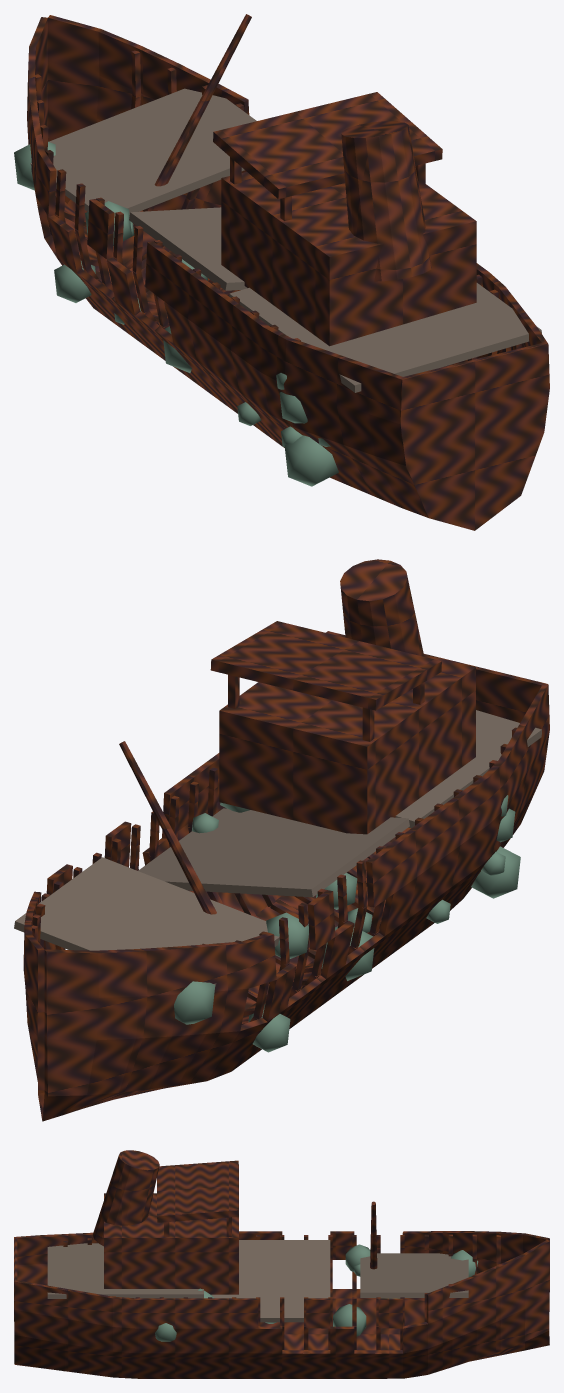
Rendered from shipwreck.glb.
3 renders of one model, top to bottom at view 1: azimuth 30°, elevation 25°; view 2: azimuth 150°, elevation 25°; view 3: azimuth 270°, elevation 25°, orthographic. The views are drawn at different scales.
Visible parts, largest first — view 1: Wreck_Hull, Wreck_Superstructure, Wreck_Deck, Wreck_MarineGrowth, Wreck_Ribs; view 2: Wreck_Hull, Wreck_Superstructure, Wreck_Deck, Wreck_Ribs, Wreck_MarineGrowth; view 3: Wreck_Hull, Wreck_Superstructure, Wreck_Deck, Wreck_Ribs, Wreck_MarineGrowth.
Part boxes in pixels (bbox=[...]): Wreck_Hull: bbox=[27, 15, 549, 530]; Wreck_Superstructure: bbox=[154, 14, 476, 346]; Wreck_Deck: bbox=[30, 88, 541, 392]; Wreck_MarineGrowth: bbox=[14, 141, 338, 486]; Wreck_Ribs: bbox=[35, 50, 521, 366]; Wreck_Hull: bbox=[23, 654, 549, 1121]; Wreck_Superstructure: bbox=[119, 559, 475, 914]; Wreck_Deck: bbox=[14, 710, 541, 986]; Wreck_Ribs: bbox=[31, 727, 516, 1024]; Wreck_MarineGrowth: bbox=[174, 795, 520, 1052]; Wreck_Hull: bbox=[14, 1231, 549, 1378]; Wreck_Superstructure: bbox=[92, 1150, 377, 1294]; Wreck_Deck: bbox=[47, 1240, 468, 1322]; Wreck_Ribs: bbox=[63, 1234, 500, 1371]; Wreck_MarineGrowth: bbox=[155, 1244, 478, 1341].
Size of the model in its own units: 7.13 by 9.94 by 22.27.
4 materials, 2 textured.
